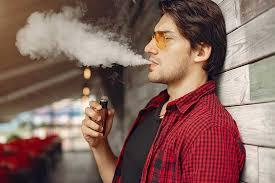smoker: (45, 4, 222, 148)
